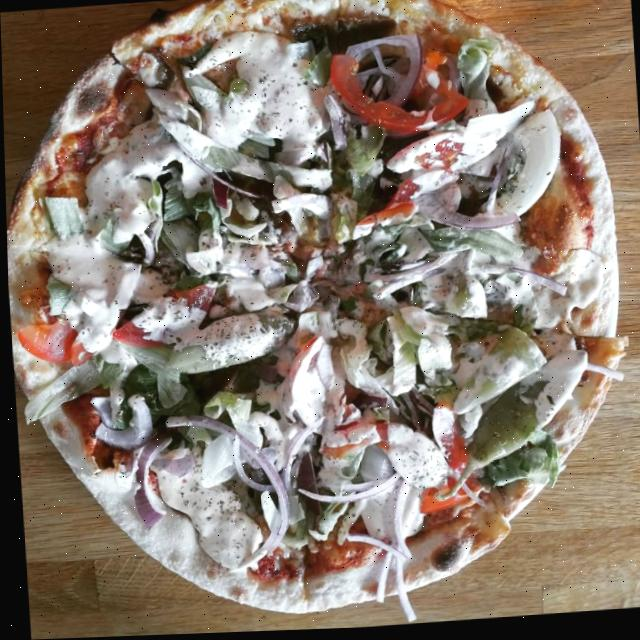pizza: (0, 0, 639, 640)
tomatoes: (313, 400, 483, 525), (325, 39, 474, 144), (108, 283, 221, 352), (14, 312, 108, 373), (355, 202, 419, 234)
